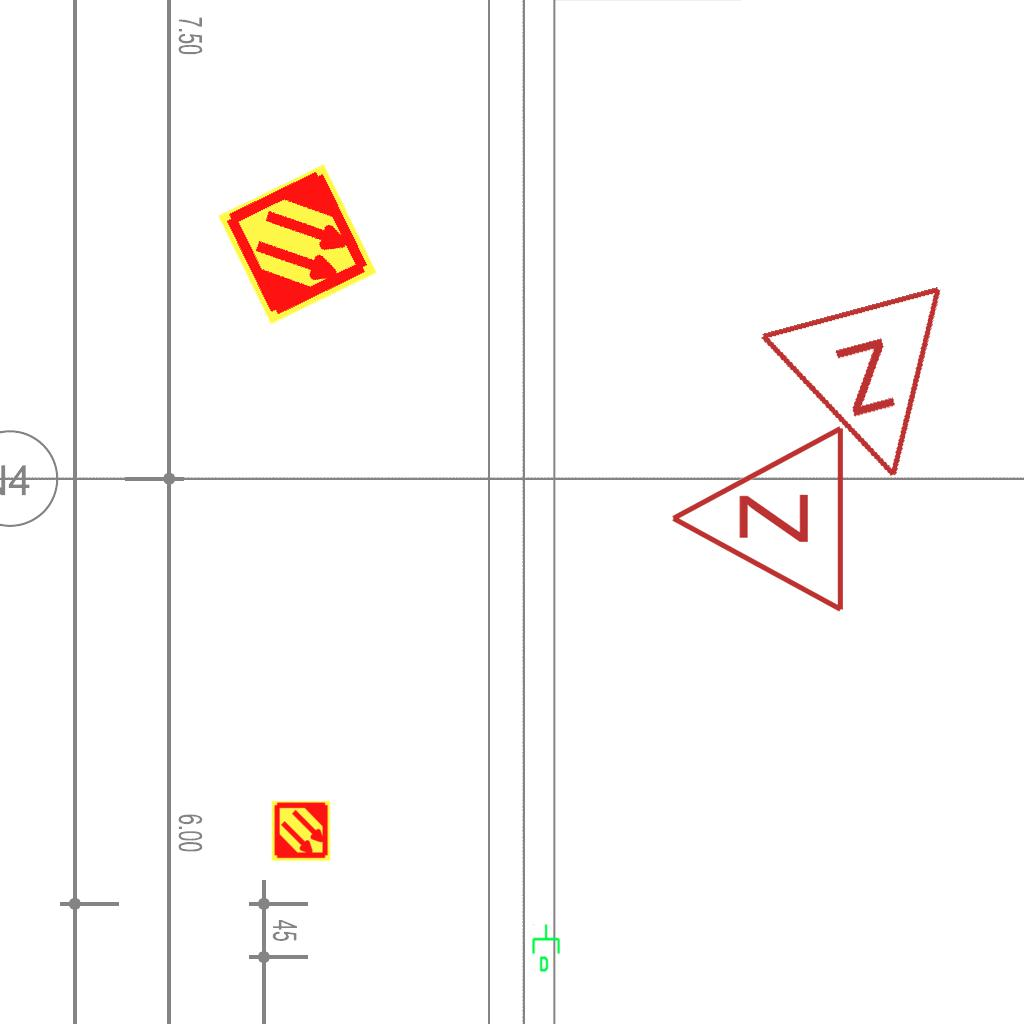ASR_Ansaugrauchmelder: (213, 160, 382, 329), (270, 800, 332, 862)
Datenanschluss_einfach: (530, 923, 564, 973)
Zimmersignalleuchte: (753, 270, 995, 514), (658, 423, 858, 619)
